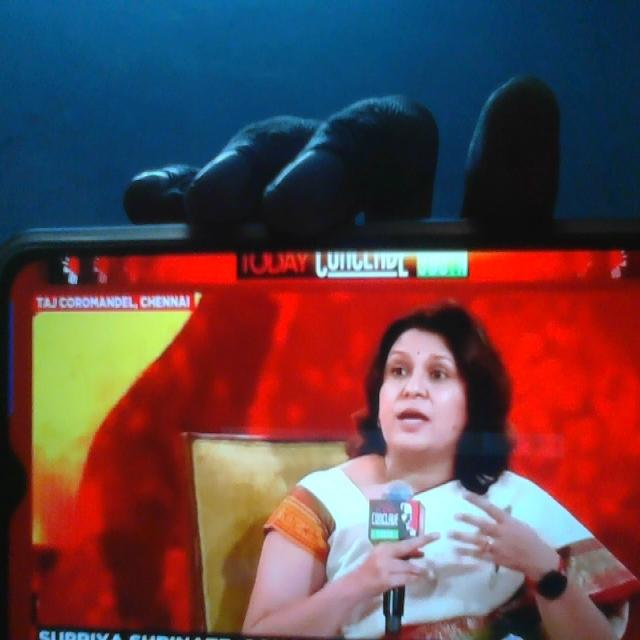fake: (376, 271, 485, 476)
